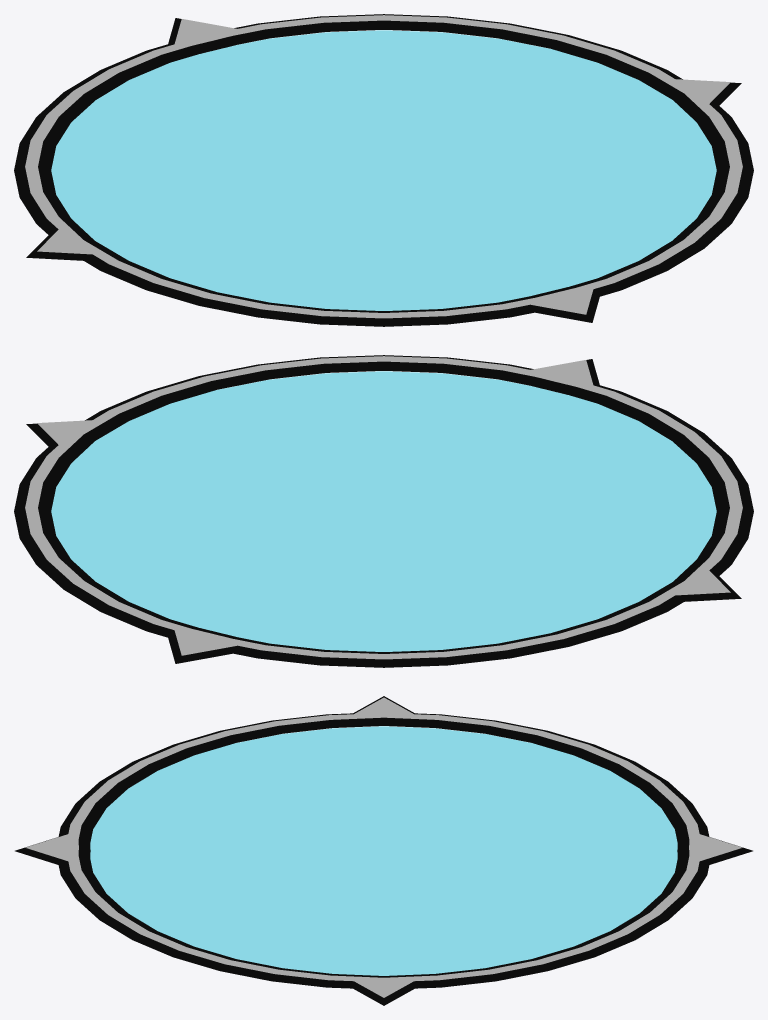
Rendered from HighlightCircle.fbx.
3 renders of one model, top to bottom at view 1: azimuth 30°, elevation 25°; view 2: azimuth 150°, elevation 25°; view 3: azimuth 270°, elevation 25°, orthographic. The views are drawn at different scales.
Parts seen in each view (by area): view 1: HighlightCircleIn, HighlightCircleOutline, HighlightCircle; view 2: HighlightCircleIn, HighlightCircleOutline, HighlightCircle; view 3: HighlightCircleIn, HighlightCircleOutline, HighlightCircle.
Boxes of the visible parts, <box> form: HighlightCircleIn: <box>51,30,716,310</box>; HighlightCircleOutline: <box>14,14,753,326</box>; HighlightCircle: <box>25,15,742,318</box>; HighlightCircleIn: <box>51,371,716,651</box>; HighlightCircleOutline: <box>14,355,753,667</box>; HighlightCircle: <box>25,356,742,659</box>; HighlightCircleIn: <box>90,726,677,975</box>; HighlightCircleOutline: <box>15,696,752,1005</box>; HighlightCircle: <box>25,697,742,997</box>.
Size of the model in its own units: 179 by 1.46 by 180.
